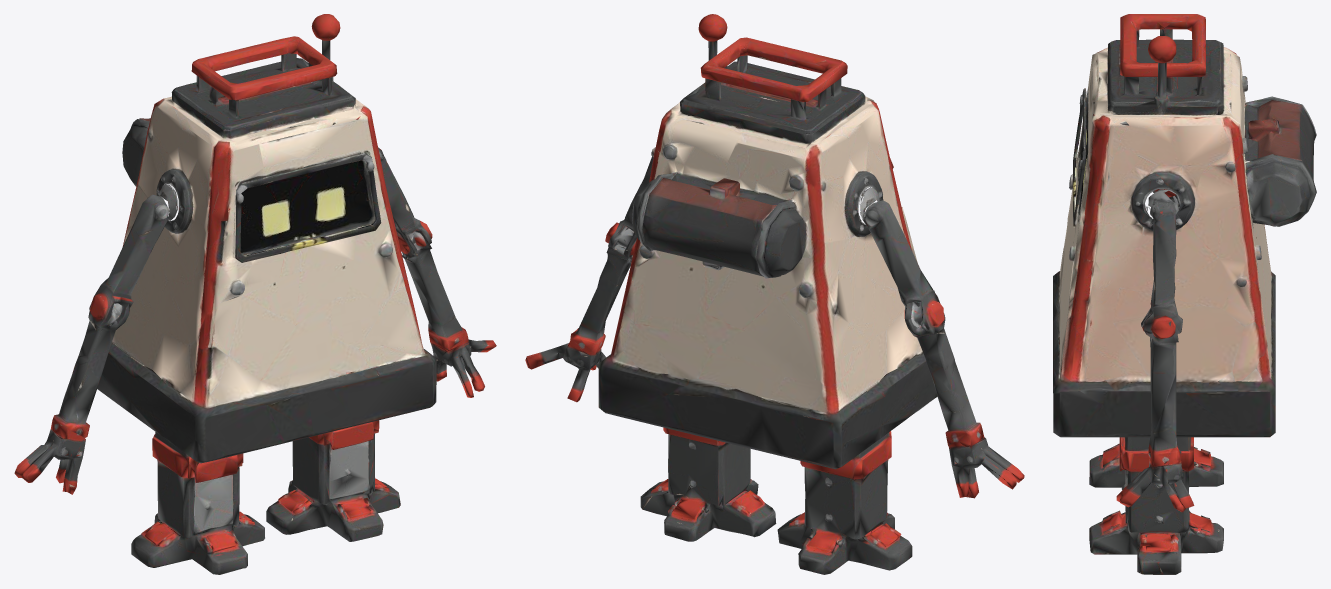
The picture shows the model from 3 angles, left to right: view 1: azimuth 30°, elevation 25°; view 2: azimuth 150°, elevation 25°; view 3: azimuth 270°, elevation 25°; orthographic projection.
Visible parts, largest first — view 1: body, leg_L, leg_R, forearm_L, forearm_R, arm_L, arm_R; view 2: body, leg_L, leg_R, forearm_L, forearm_R, arm_L, arm_R; view 3: body, leg_R, forearm_R, arm_R, leg_L.
Part boxes in pixels (x1,y1,x2,y2): body: (97,14,436,463); leg_L: (131,432,264,574); leg_R: (266,420,400,541); forearm_L: (14,308,128,494); forearm_R: (400,243,496,397); arm_L: (89,184,177,319); arm_R: (378,147,432,249); body: (598,14,937,469); leg_L: (777,431,912,574); leg_R: (640,427,776,541); forearm_L: (905,316,1024,498); forearm_R: (525,243,633,402); arm_L: (860,187,944,326); arm_R: (605,156,653,251); body: (1053,14,1316,437); leg_R: (1089,437,1223,574); forearm_R: (1116,325,1194,512); arm_R: (1141,189,1182,337); leg_L: (1089,443,1223,487).
Bounding box in the file's own units: 1.89 × 1.87 × 0.8798.
1 material, 1 textured.
